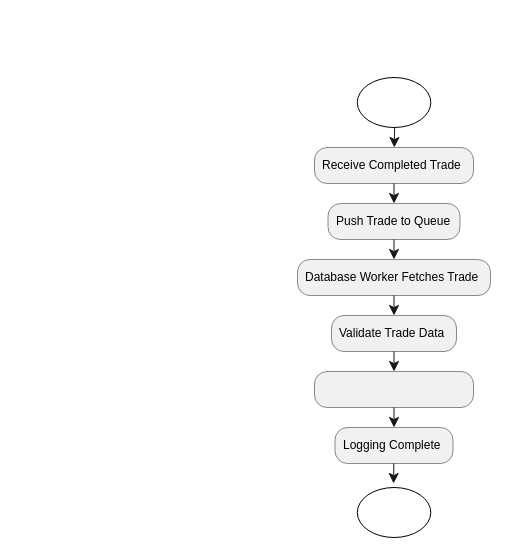
Image size: 508x555. Some labels were removed from this diagram. Here are the shapes that lost their labels. From the top down, the centre of each, then its label:
[393,102]: START
[393,389]: Store Trade in PostgreSQL
[393,512]: END
